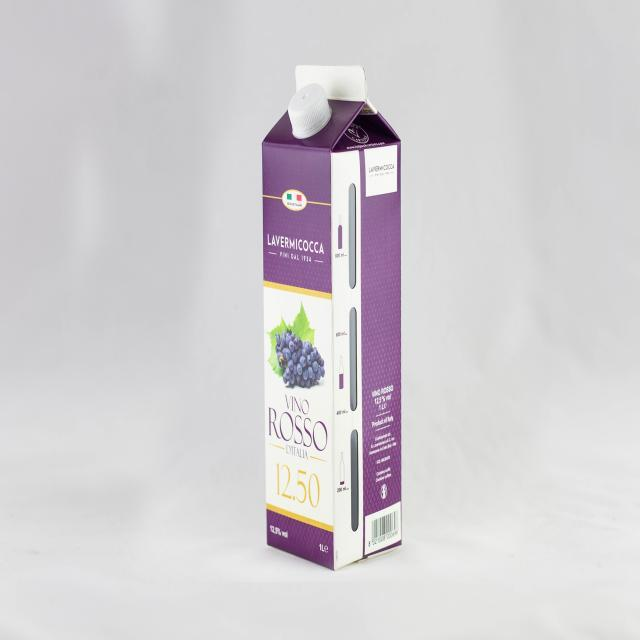Carton: (252, 56, 409, 570)
